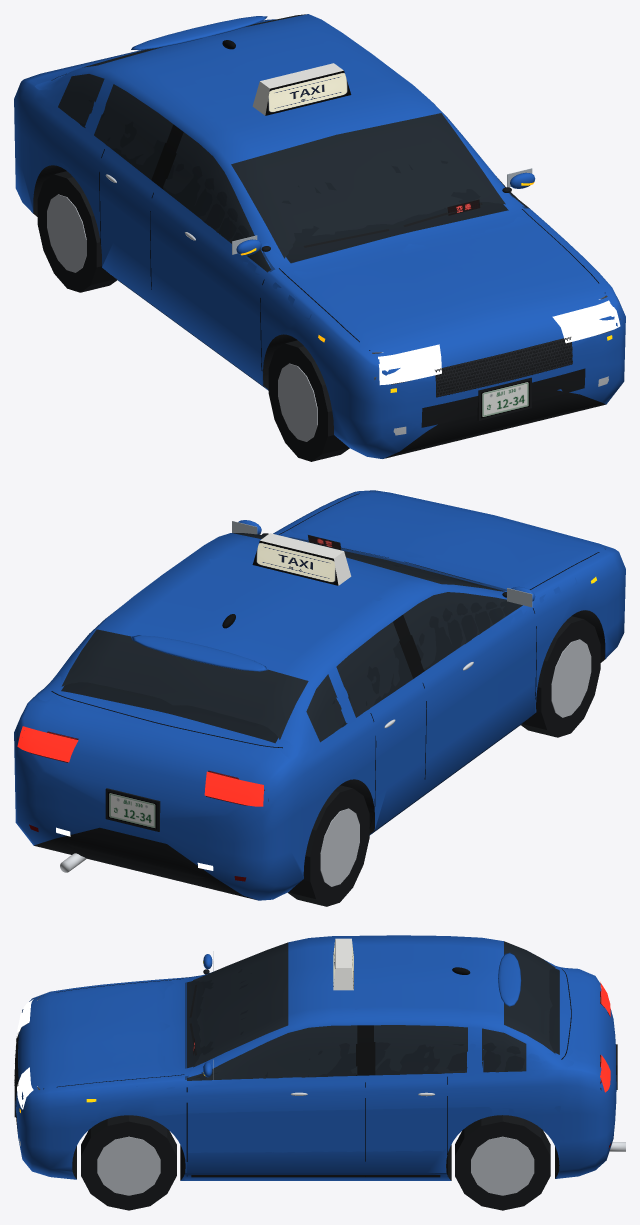
The model's file is car.glb.
3 renders of one model, top to bottom at view 1: azimuth 30°, elevation 25°; view 2: azimuth 150°, elevation 25°; view 3: azimuth 270°, elevation 25°, orthographic. The views are drawn at different scales.
Visible parts, largest first — view 1: BodyLow, Body, TaxiSign, PlateFront; view 2: BodyLow, Body, TaxiSign, PlateRear; view 3: BodyLow, Body, TaxiSign.
Part boxes in pixels (x1,y1,x2,y2): BodyLow: [14, 14, 625, 461]; Body: [28, 16, 620, 435]; TaxiSign: [252, 63, 351, 115]; PlateFront: [481, 381, 529, 418]; BodyLow: [14, 490, 625, 906]; Body: [17, 491, 605, 892]; TaxiSign: [252, 533, 351, 585]; PlateRear: [108, 792, 156, 829]; BodyLow: [15, 935, 616, 1210]; Body: [14, 943, 625, 1177]; TaxiSign: [333, 938, 353, 990].
Bounding box in the file's own units: 2.03 × 1.62 × 4.42.
Materials: 29 (9 with a texture image).
